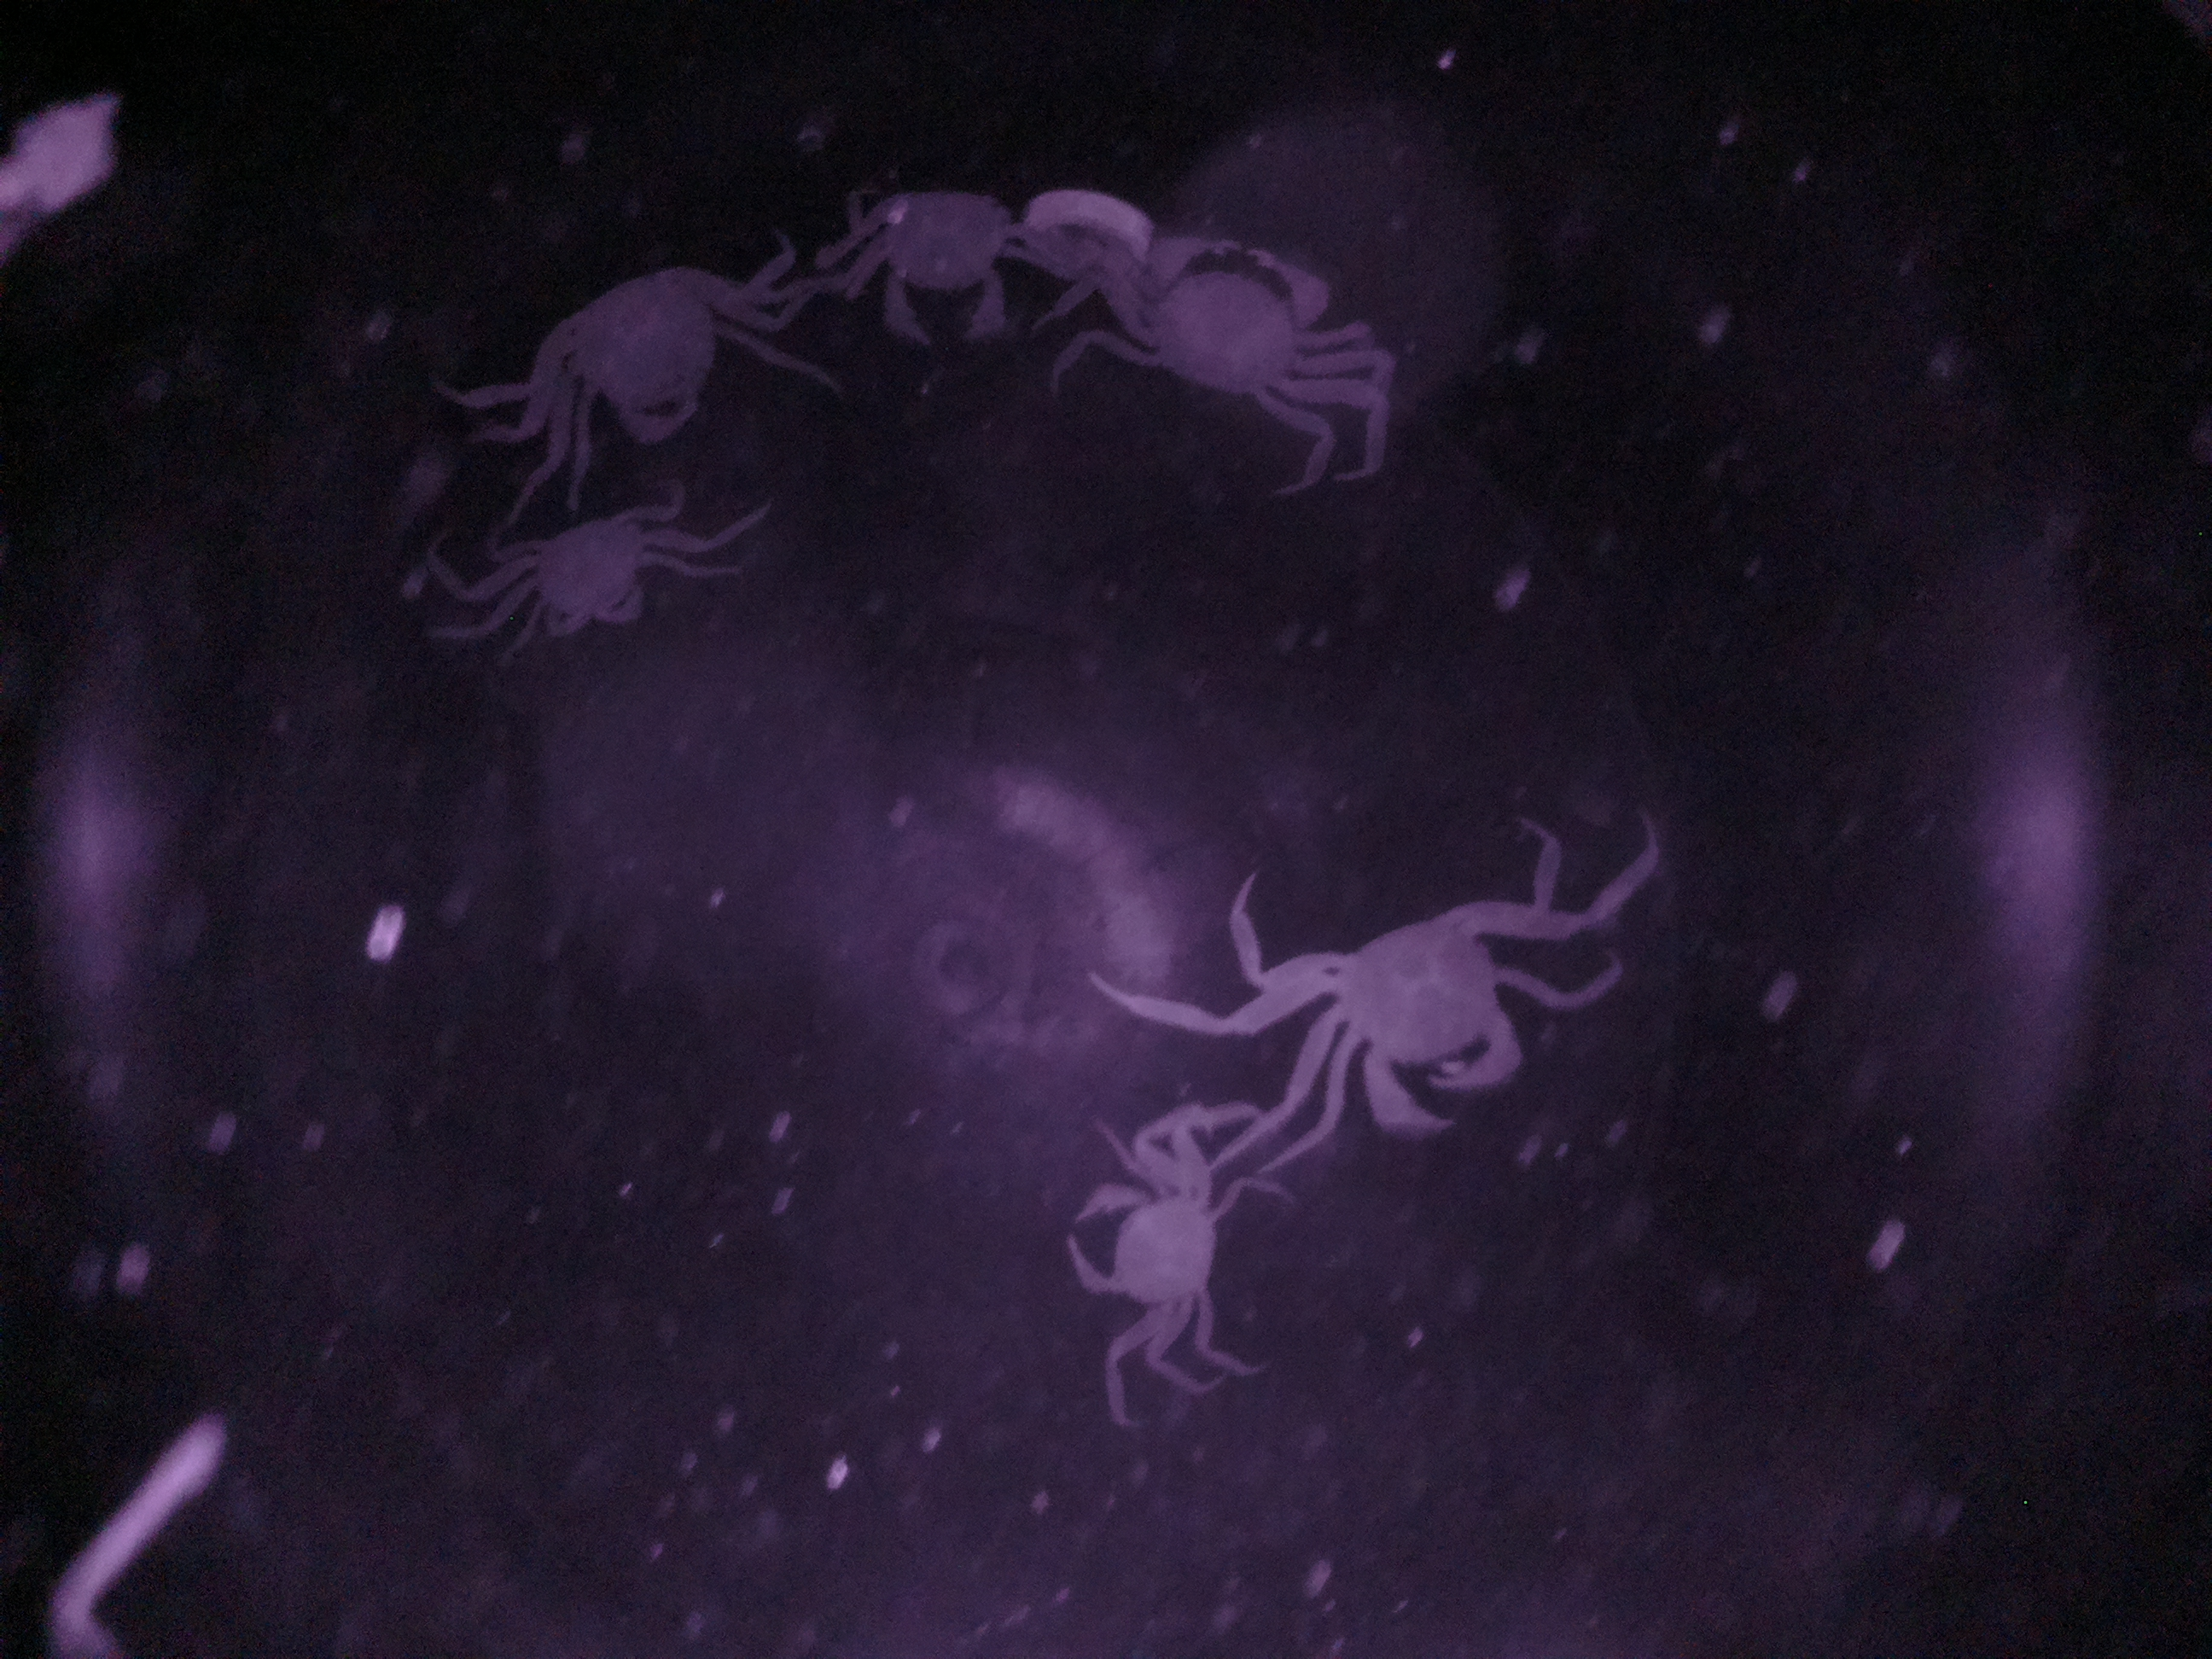Crab: (1228, 873, 1552, 1152), (423, 474, 758, 660), (1066, 1100, 1235, 1384)
